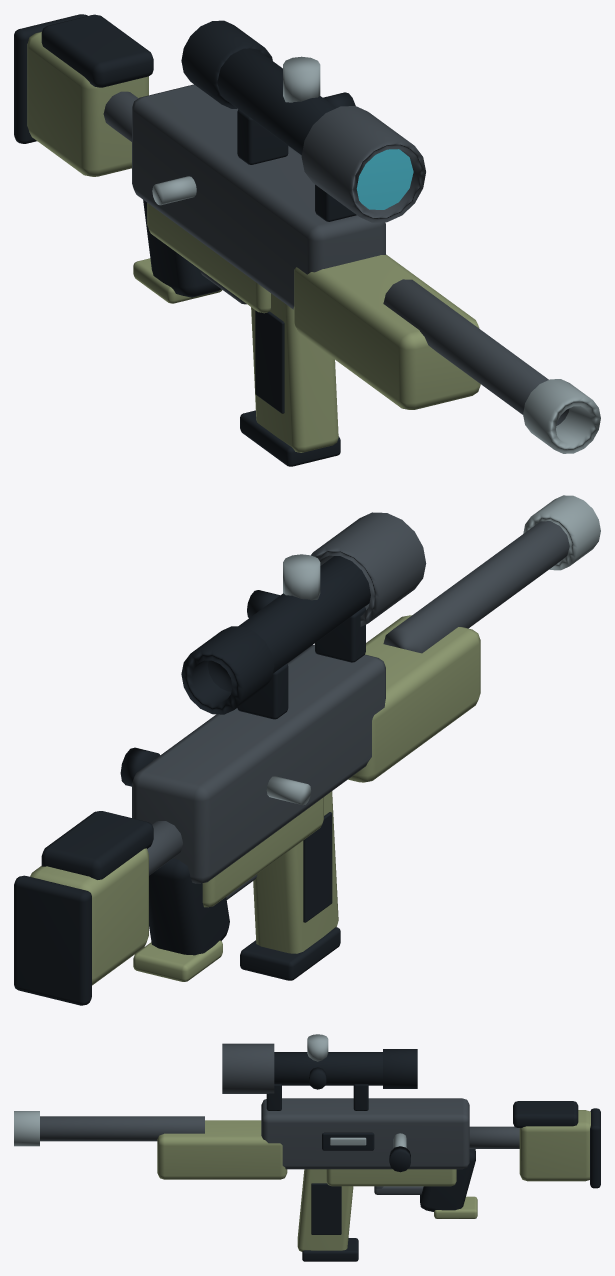
Rendered from awm.glb.
3 views of the same model, one above another, from view 1: azimuth 30°, elevation 25°; view 2: azimuth 150°, elevation 25°; view 3: azimuth 270°, elevation 25° (orthographic). The views are drawn at different scales.
Parts seen in each view (by area): view 1: awm_Cerakote graphite, awm_awm painted furniture, awm_Recesses and rubber, awm_Machined edges, awm_Optic blue glass; view 2: awm_Cerakote graphite, awm_Recesses and rubber, awm_awm painted furniture, awm_Machined edges; view 3: awm_Cerakote graphite, awm_awm painted furniture, awm_Recesses and rubber, awm_Machined edges.
Boxes of the visible parts, x1=… form: awm_Cerakote graphite: x1=103, y1=84, x2=569, y2=425; awm_awm painted furniture: x1=27, y1=31, x2=480, y2=452; awm_Recesses and rubber: x1=14, y1=14, x2=356, y2=466; awm_Machined edges: x1=152, y1=56, x2=600, y2=453; awm_Optic blue glass: x1=356, y1=149, x2=413, y2=209; awm_Cerakote graphite: x1=132, y1=512, x2=569, y2=899; awm_Recesses and rubber: x1=14, y1=556, x2=370, y2=1005; awm_awm painted furniture: x1=30, y1=615, x2=480, y2=985; awm_Machined edges: x1=266, y1=495, x2=600, y2=805; awm_Cerakote graphite: x1=40, y1=1043, x2=519, y2=1194; awm_awm painted furniture: x1=157, y1=1110, x2=590, y2=1251; awm_Recesses and rubber: x1=266, y1=1049, x2=600, y2=1261; awm_Machined edges: x1=14, y1=1034, x2=406, y2=1147.
Bounding box in the file's own units: 0.2805 × 0.6061 × 1.49.
